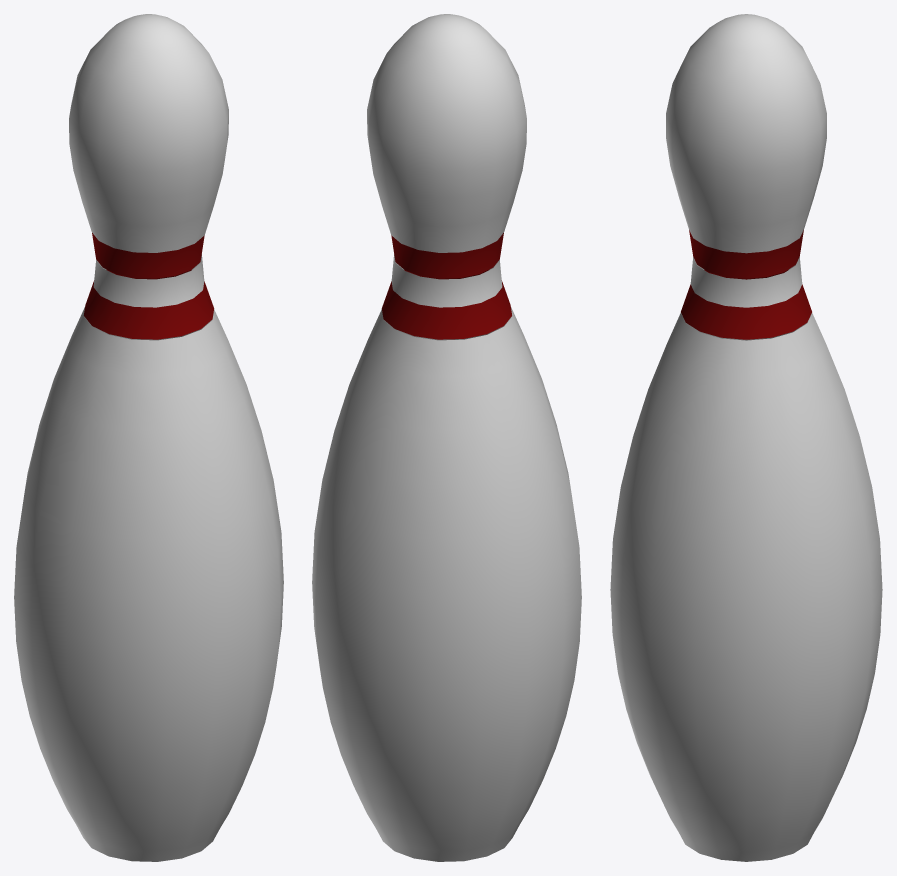
The model's file is quille.glb.
The picture shows the model from 3 angles, left to right: view 1: azimuth 30°, elevation 25°; view 2: azimuth 150°, elevation 25°; view 3: azimuth 270°, elevation 25°; orthographic projection.
Parts seen in each view (by area): view 1: Bowling_pin004_Material #4305_0; view 2: Bowling_pin004_Material #4305_0; view 3: Bowling_pin004_Material #4305_0.
Boxes of the visible parts, bbox=[...] form: Bowling_pin004_Material #4305_0: bbox=[14, 14, 283, 861]; Bowling_pin004_Material #4305_0: bbox=[312, 14, 581, 861]; Bowling_pin004_Material #4305_0: bbox=[610, 14, 882, 861].
Size of the model in its own units: 1.12 by 3.69 by 1.12.
